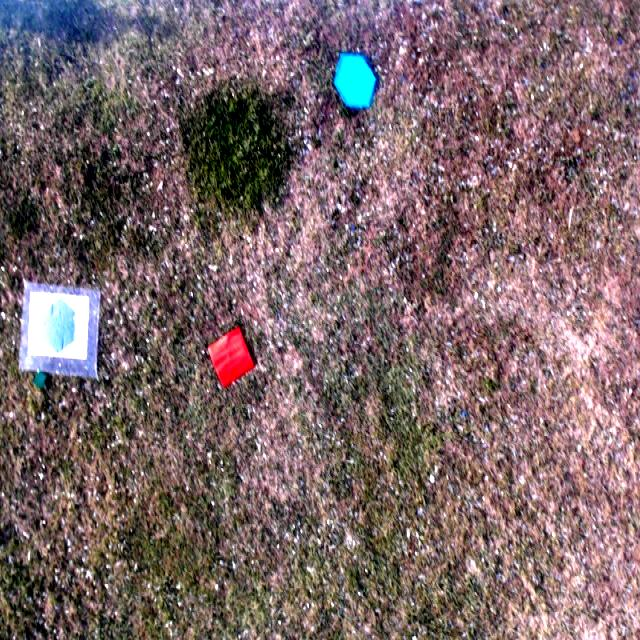blue_hexagon: (331, 56, 378, 110), (42, 296, 76, 354)
red_square: (204, 324, 257, 390)
